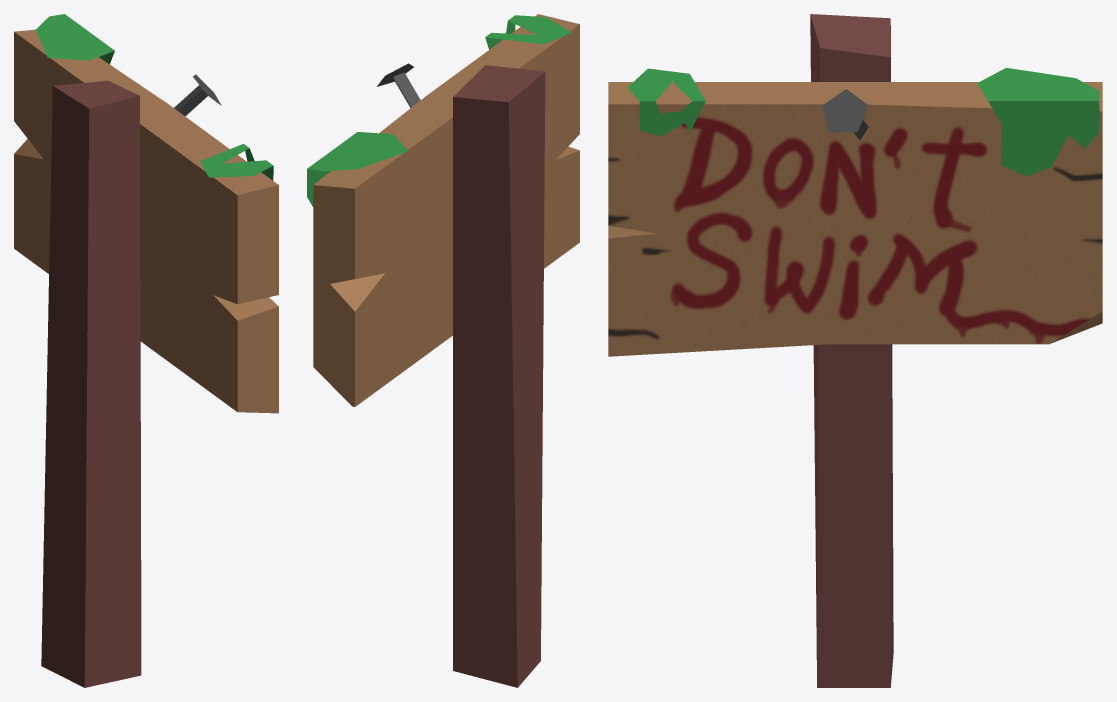
Rendered from wood_sign.glb.
The picture shows the model from 3 angles, left to right: view 1: azimuth 30°, elevation 25°; view 2: azimuth 150°, elevation 25°; view 3: azimuth 270°, elevation 25°; orthographic projection. The views are drawn at different scales.
Parts seen in each view (by area): view 1: post, back, top, moss, nail; view 2: post, back, top, moss, nail; view 3: front, post, moss, top, nail.
Boxes of the visible parts, x1,y1,x2,y2 form: post: (41, 80, 141, 687); back: (14, 32, 278, 413); top: (14, 29, 278, 194); moss: (35, 14, 273, 180); nail: (174, 74, 221, 116); post: (453, 65, 545, 687); back: (313, 24, 579, 406); top: (314, 14, 579, 188); moss: (307, 15, 571, 206); nail: (377, 63, 420, 107); front: (608, 104, 1102, 356); post: (810, 14, 893, 687); moss: (627, 67, 1099, 176); top: (608, 82, 1102, 111); nail: (822, 89, 868, 140).
Bounding box in the file's own units: 1.13 × 4.03 × 2.8.
Materials: 5 (1 with a texture image).
